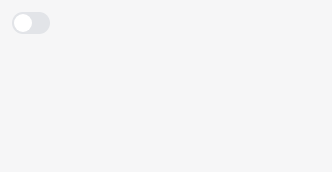
Test: Switch › es un interruptor accesible que cambia con el clic
Click the switch named "Notificaciones por correo".
click(31, 23)  # box [12,12,50,34]
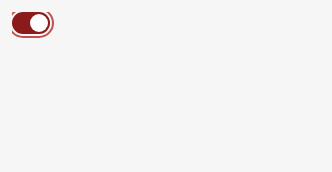
Result: the switch named "Notificaciones por correo" is checked at [12,12,50,34]
